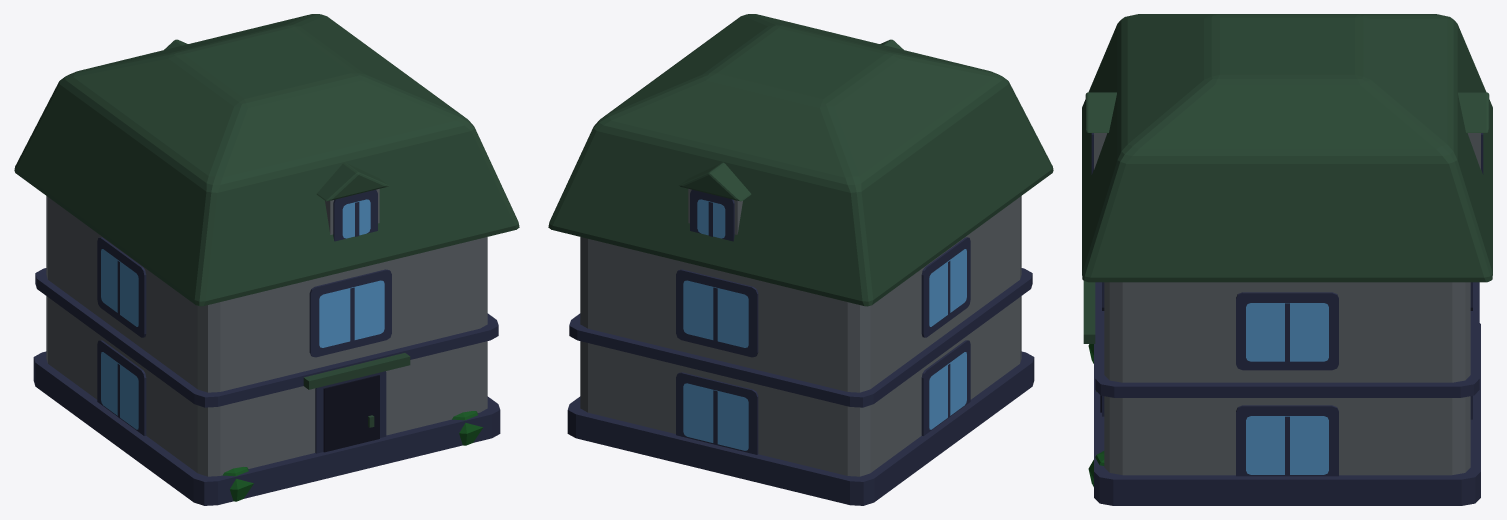
The model's file is house-1x1-2f-mansard-d.glb.
The picture shows the model from 3 angles, left to right: view 1: azimuth 30°, elevation 25°; view 2: azimuth 150°, elevation 25°; view 3: azimuth 270°, elevation 25°; orthographic projection. The views are drawn at different scales.
Visible parts, largest first — view 1: house-1x1-2f-mansard-d; view 2: house-1x1-2f-mansard-d; view 3: house-1x1-2f-mansard-d.
Part boxes in pixels (<box>): house-1x1-2f-mansard-d: <box>14,14,519,505</box>; house-1x1-2f-mansard-d: <box>548,14,1053,505</box>; house-1x1-2f-mansard-d: <box>1082,14,1492,505</box>.
Bounding box in the file's own units: 0.9876 × 1 × 0.9876.
1 material, 1 textured.
